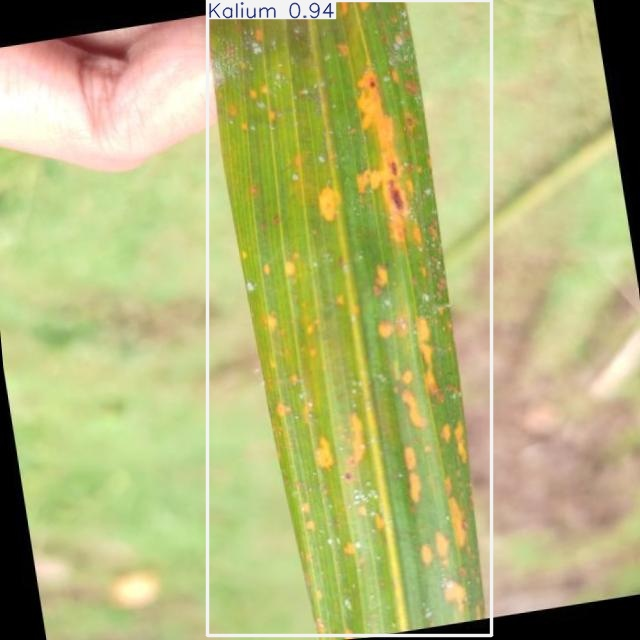Kalium: (208, 1, 491, 635)
